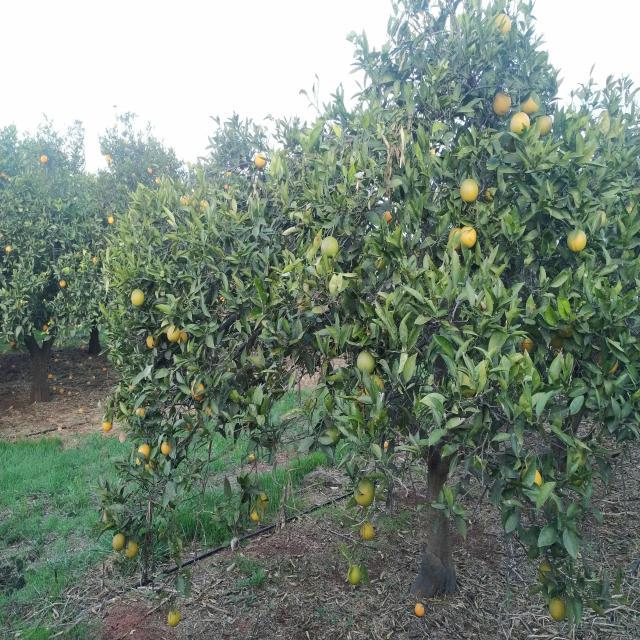Jeruk Belum Matang: (354, 478, 374, 506), (548, 596, 568, 622), (358, 350, 377, 376), (568, 442, 586, 466), (321, 236, 338, 257), (536, 115, 552, 137), (348, 565, 362, 586), (130, 288, 144, 308), (125, 540, 139, 560), (538, 559, 550, 582), (112, 534, 126, 551), (256, 492, 268, 508), (168, 610, 179, 626), (180, 194, 192, 206), (160, 320, 170, 332), (149, 456, 157, 468)
Jeruk Sudah Matang: (566, 230, 588, 252), (510, 112, 530, 136), (493, 92, 512, 116), (493, 13, 512, 36), (461, 179, 478, 203), (522, 95, 540, 116), (460, 226, 477, 248), (448, 227, 462, 248), (190, 383, 204, 401), (531, 468, 543, 488), (254, 153, 266, 169), (168, 326, 180, 342), (251, 507, 264, 521), (147, 334, 159, 348), (138, 443, 150, 457), (162, 440, 172, 456), (176, 331, 188, 344), (382, 211, 392, 225), (200, 200, 210, 213), (102, 421, 113, 432), (136, 406, 146, 416), (59, 280, 66, 288), (92, 256, 99, 264), (136, 457, 142, 466), (41, 156, 48, 163), (108, 217, 114, 224), (42, 325, 48, 331), (6, 246, 12, 252), (106, 155, 111, 162), (156, 178, 160, 184), (148, 168, 152, 174), (224, 185, 228, 190), (227, 172, 231, 176)
